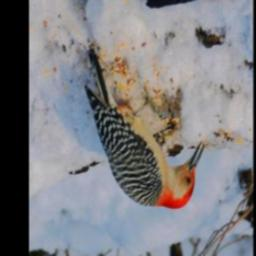Woodpecker: (82, 39, 206, 211)
